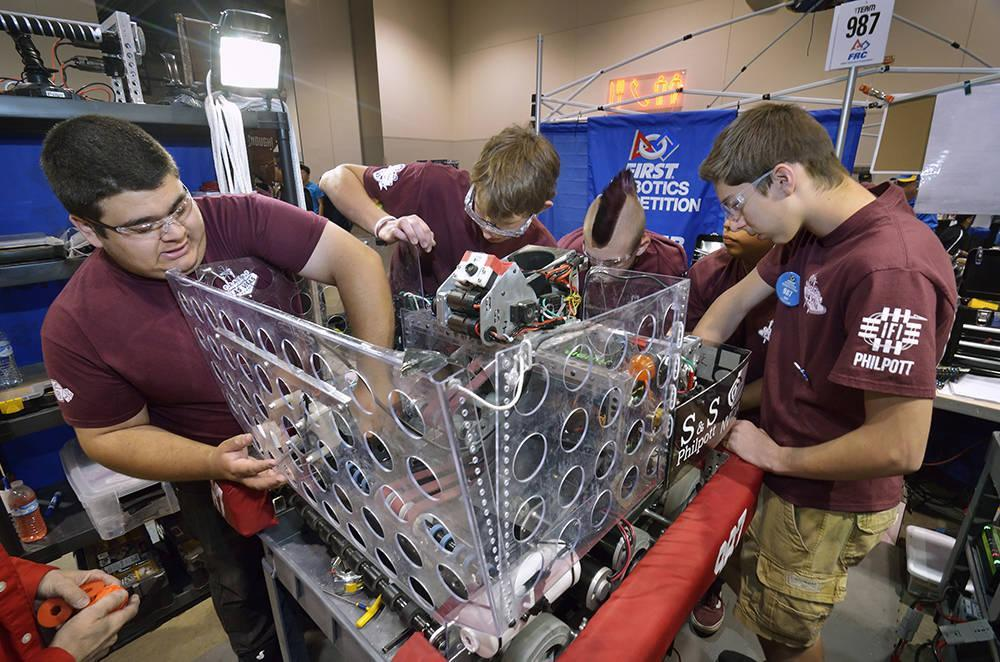robot: (167, 202, 773, 662)
